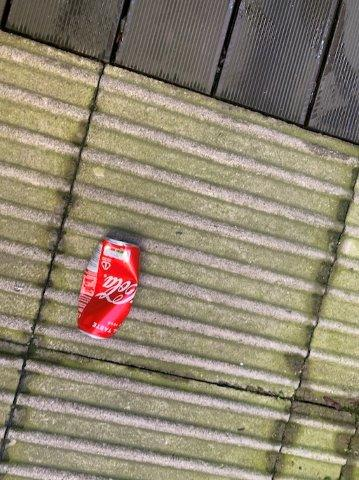kaleng: (78, 238, 140, 337)
